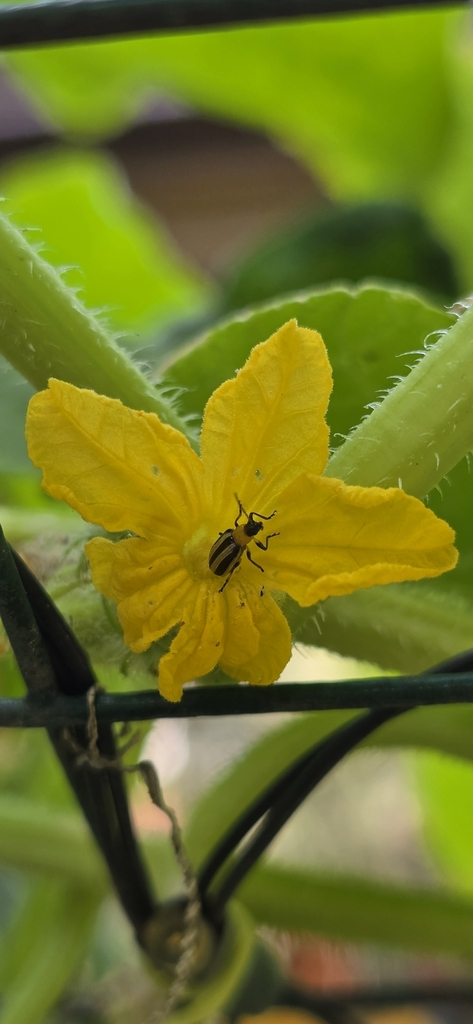potato_beetle: (175, 464, 308, 623)
